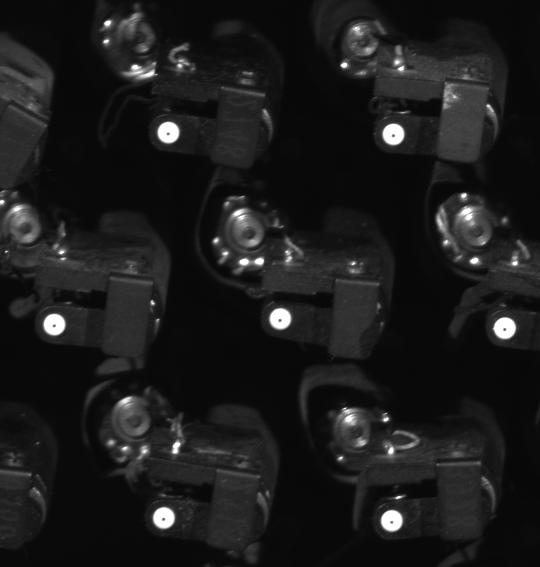fiber: (151, 117, 190, 151), (262, 302, 299, 335), (379, 118, 411, 154), (488, 311, 521, 345), (149, 501, 181, 536), (374, 506, 411, 536), (39, 310, 68, 341)
